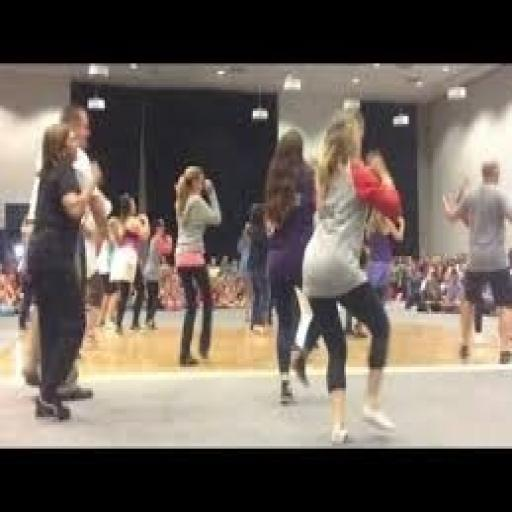dancing: (0, 75, 121, 512), (291, 108, 407, 446), (146, 125, 262, 408), (234, 86, 328, 426)
